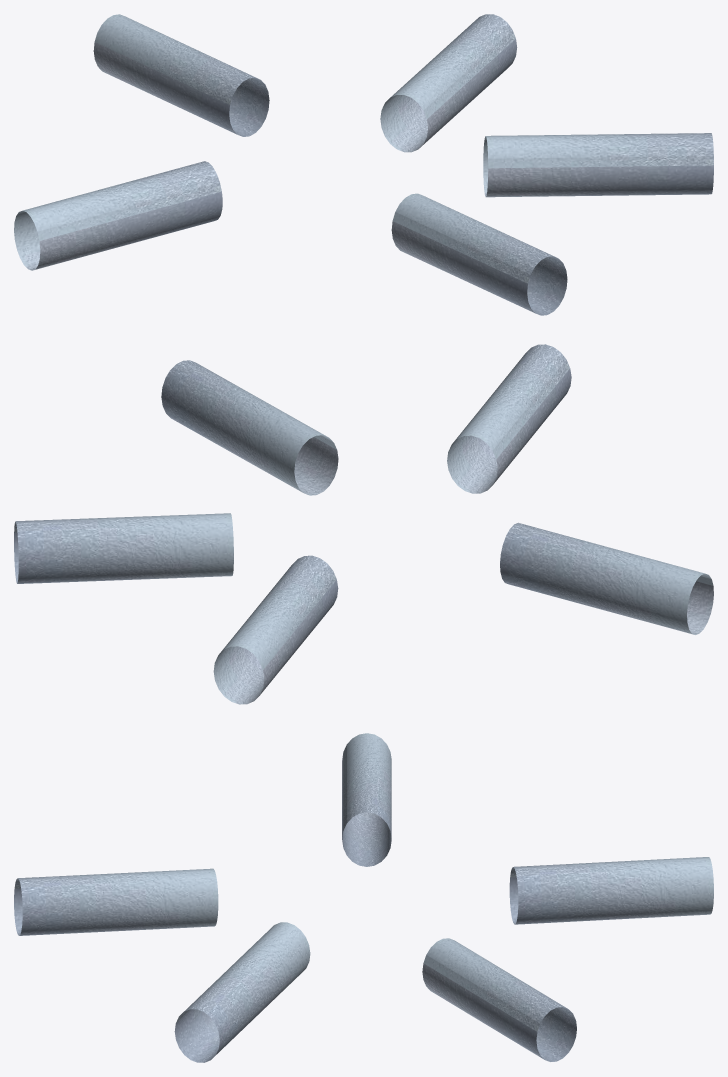
File: caminos.obj
3 views of the same model, one above another, from view 1: azimuth 30°, elevation 25°; view 2: azimuth 150°, elevation 25°; view 3: azimuth 270°, elevation 25° (orthographic). The views are drawn at different scales.
Visible parts, largest first — view 1: caminos1:pasted__pCylinder1group6; view 2: caminos1:pasted__pCylinder1group6; view 3: caminos1:pasted__pCylinder1group6.
Part boxes in pixels (<box>): caminos1:pasted__pCylinder1group6: <box>14,14,713,315</box>; caminos1:pasted__pCylinder1group6: <box>14,344,713,704</box>; caminos1:pasted__pCylinder1group6: <box>14,733,713,1062</box>.
Bounding box in the file's own units: 133 × 16.66 × 141.
1 material, 1 textured.
